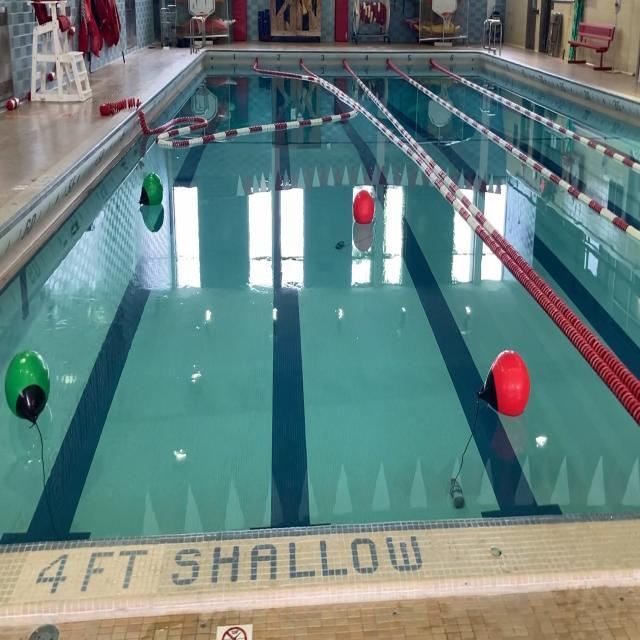buoy: (479, 350, 532, 418), (5, 346, 49, 424), (138, 171, 162, 210), (352, 190, 374, 228)
